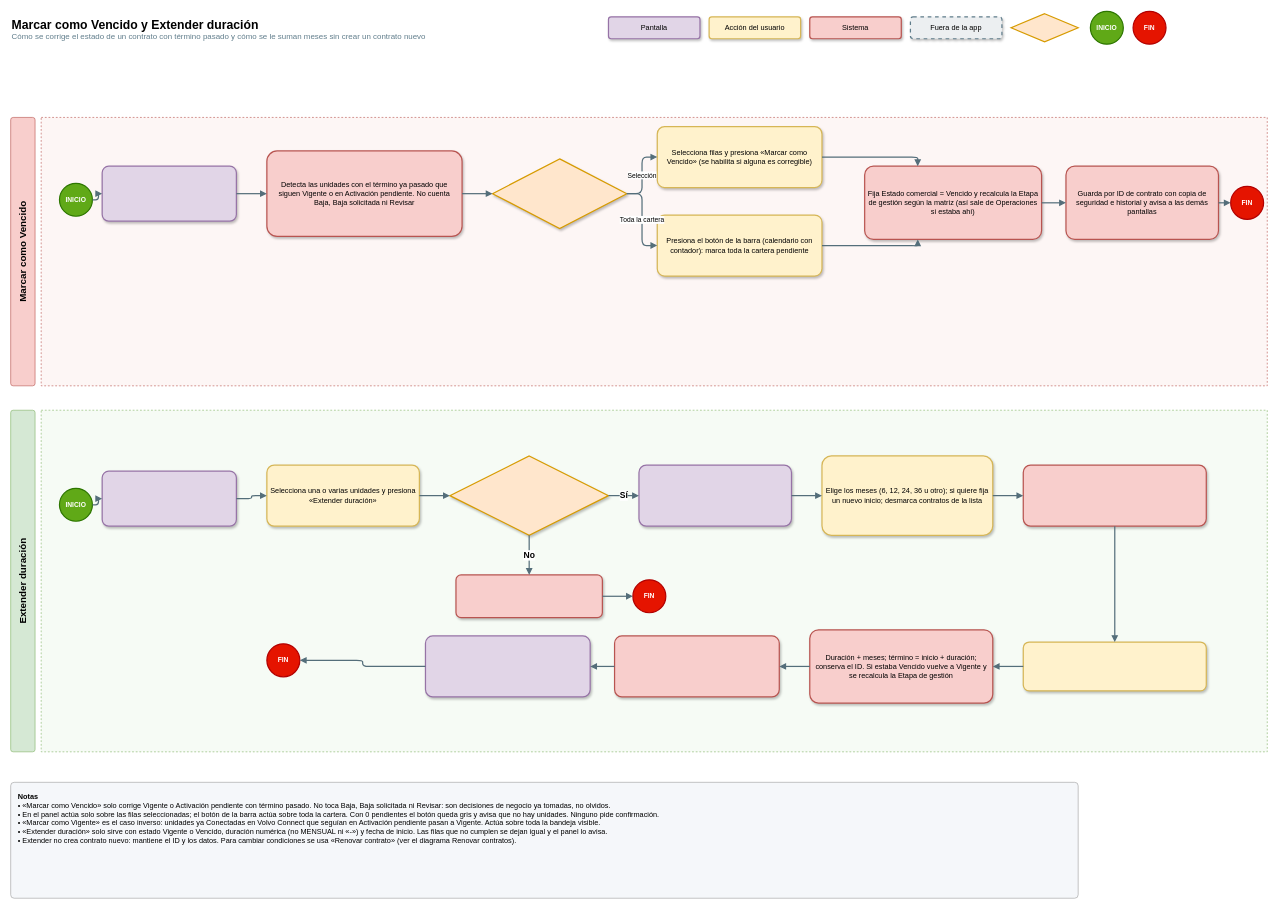
The diagram is 1278 pixels wide and 909 high, and some of its shapes have lost their labels. Here are the shapes that lost their labels. From the top down, the centre of each, then its label:
At pixel 1044 27: "Decisión".
At pixel 169 194: "Comercial › Renovar contratos".
At pixel 560 194: "¿Desde dónde lo marca?".
At pixel 169 499: "Comercial › Renovar contratos: tabla de unidades".
At pixel 529 496: "¿Hay contratos renovables en la selección?".
At pixel 715 496: "El panel derecho cambia a «Extender duración» y oculta las acciones rápidas".
At pixel 1115 496: "Muestra «Lo que va a cambiar»: duración, término y estado, antes y después".
At pixel 529 597: "El botón queda deshabilitado: no pasa nada".
At pixel 508 667: "Mensaje «Se renovó N contrato(s)» y la tabla se actualiza".
At pixel 697 667: "Guarda por ID con copia de seguridad e historial y avisa a las demás pantallas".
At pixel 1115 667: "Presiona «Extender N contrato(s)»".
